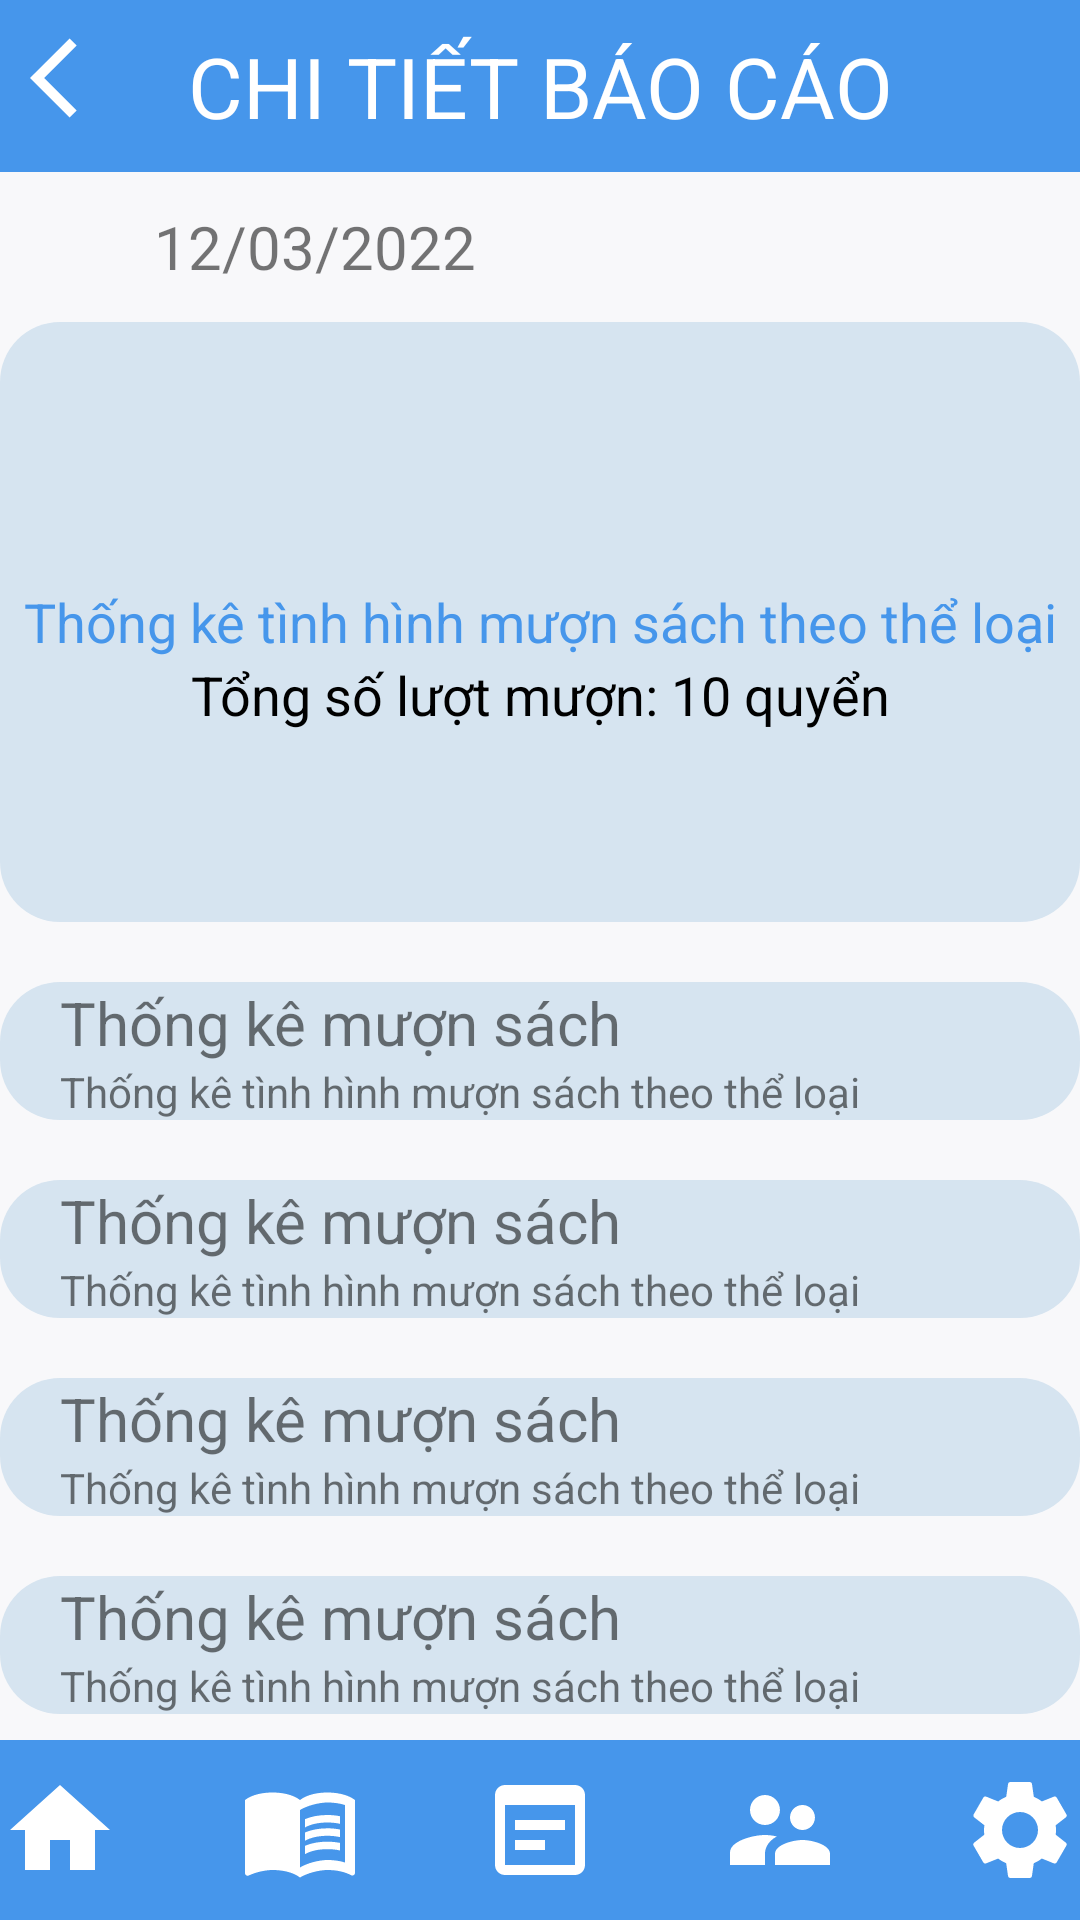

Screen size 1080*1920. Icon name, then its center in pixels as point (x, y):
account: point (780, 1830)
backto: point (53, 78)
book: point (300, 1835)
home: point (60, 1827)
setting: point (1020, 1830)
